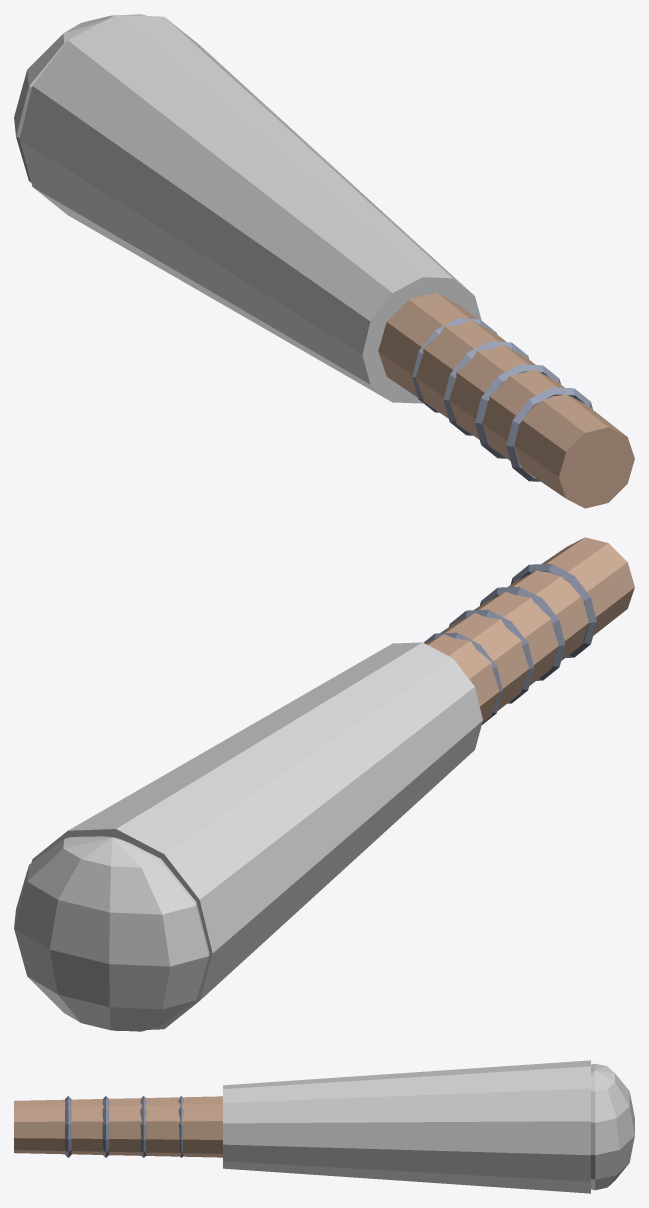
The model's file is bate.glb.
The picture shows the model from 3 angles, top to bottom: view 1: azimuth 30°, elevation 25°; view 2: azimuth 150°, elevation 25°; view 3: azimuth 270°, elevation 25°; orthographic projection. The views are drawn at different scales.
Parts seen in each view (by area): view 1: bate; view 2: bate; view 3: bate.
Part boxes in pixels (bbox=[...]): bate: bbox=[14, 14, 634, 508]; bate: bbox=[14, 537, 634, 1031]; bate: bbox=[14, 1060, 634, 1193].
Size of the model in its own units: 0.32 by 0.32 by 1.49.
